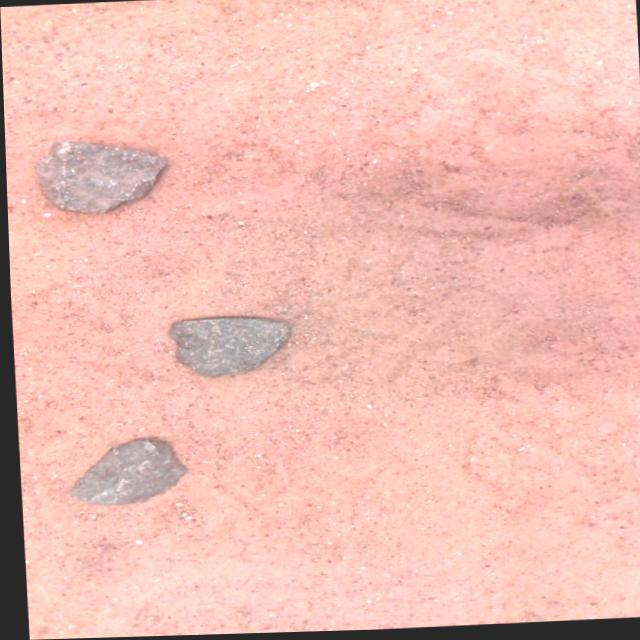rock: (35, 140, 164, 212), (66, 439, 183, 504), (166, 317, 286, 376)
